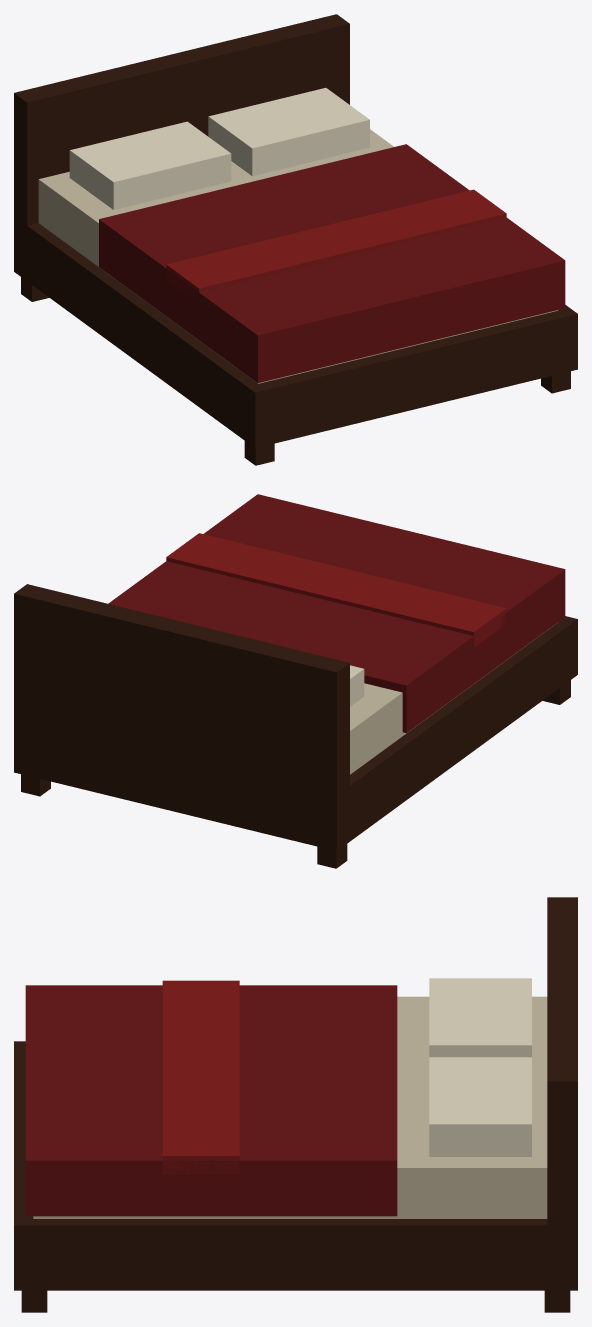
The model's file is bed.obj.
3 views of the same model, one above another, from view 1: azimuth 30°, elevation 25°; view 2: azimuth 150°, elevation 25°; view 3: azimuth 270°, elevation 25° (orthographic). The views are drawn at different scales.
Bounding box in the file's own units: 1.7 × 1 × 2.2.
